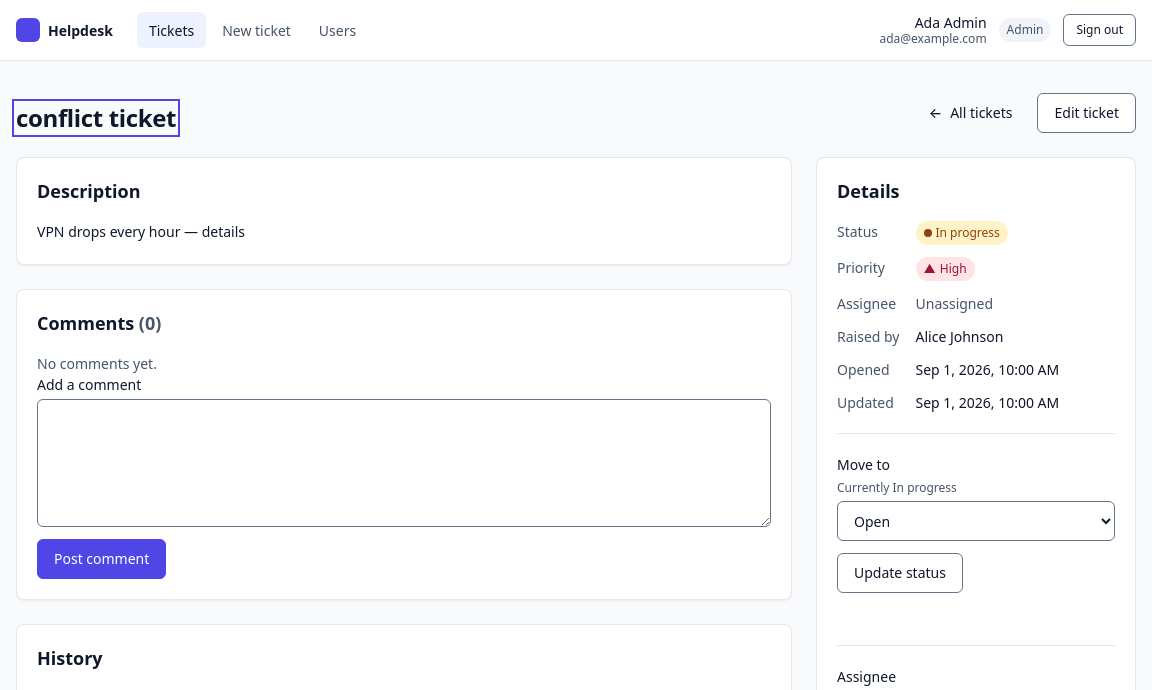
Test case: AdminTicketPanel › shows a 409 conflict inline next to the control
Select "Resolved" in the dropdown labelled "Move to" at {"x": 976, "y": 521}, box [837, 501, 1115, 541]
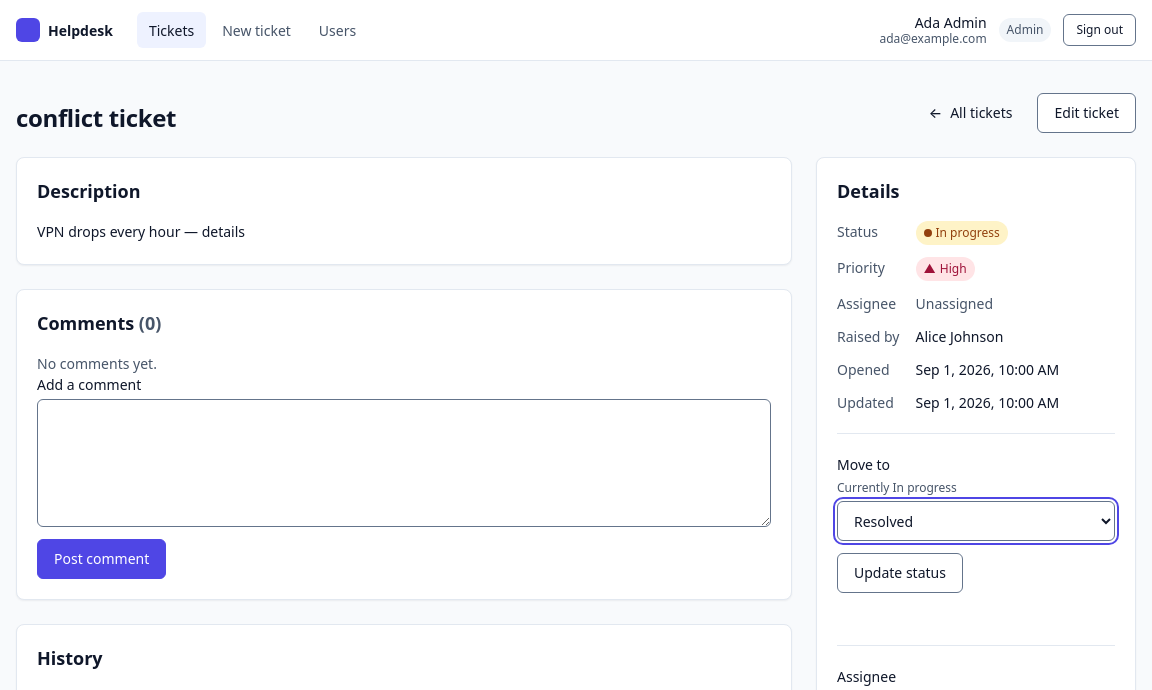
Click the button "Update status" at {"x": 900, "y": 573}, box [837, 553, 963, 593]
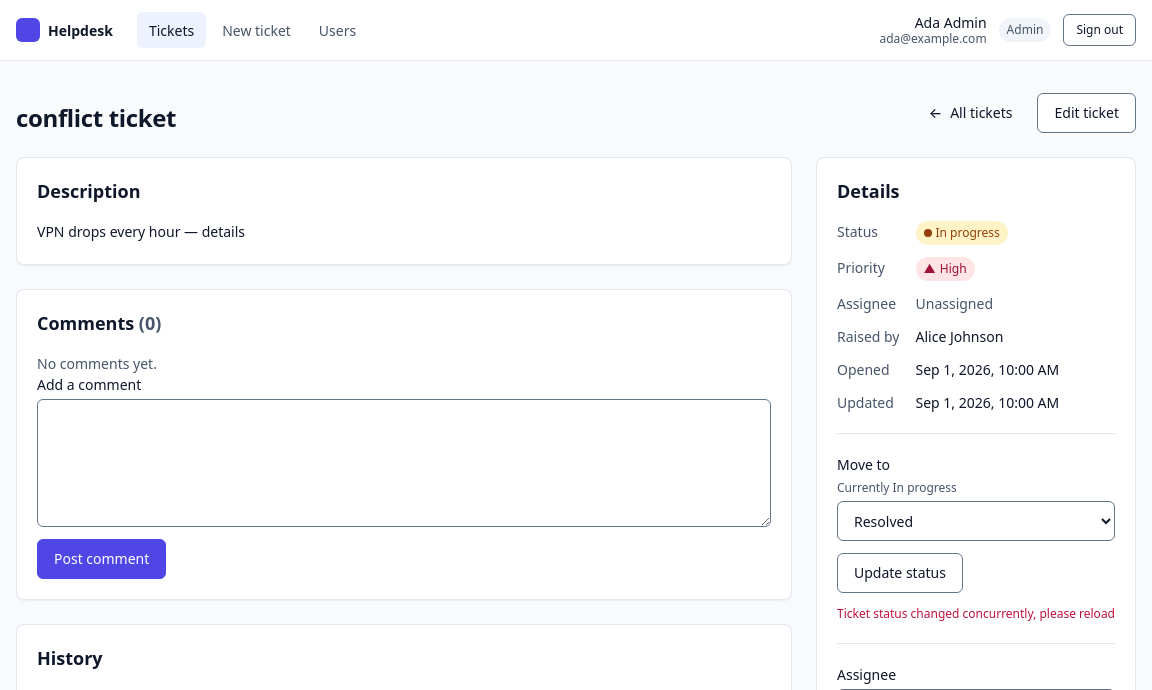
Now the text "Ticket status changed concurrently, please reload" is shown, box [837, 605, 1115, 623]
